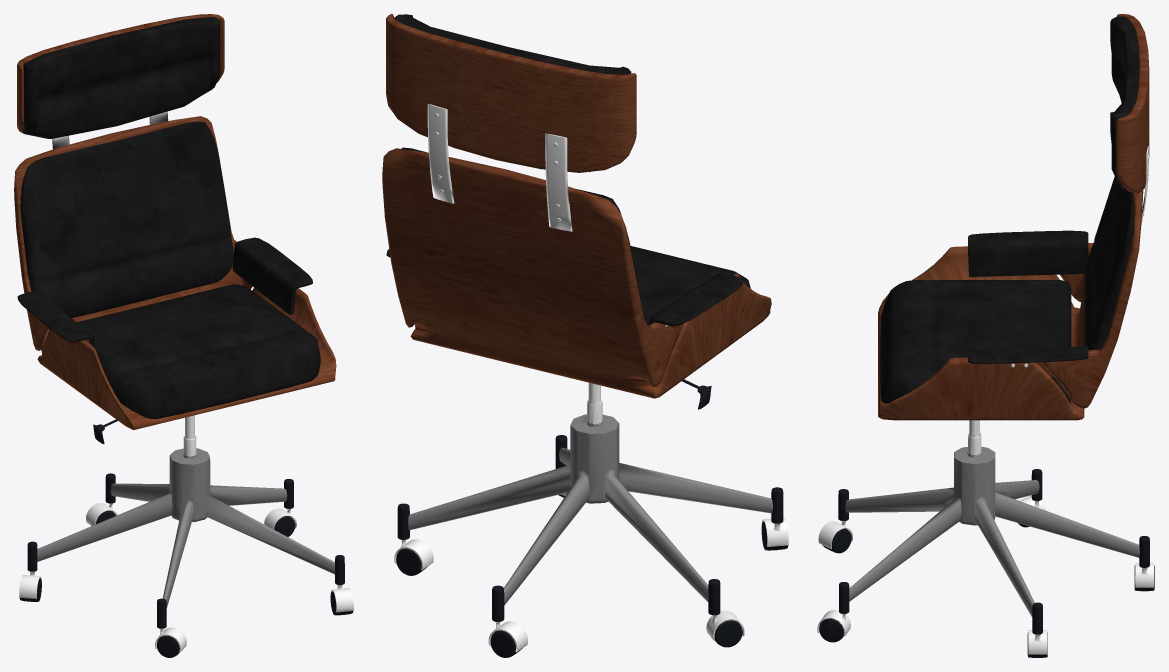
Rendered from office_chair.glb.
3 views of the same model, side by side, from view 1: azimuth 30°, elevation 25°; view 2: azimuth 150°, elevation 25°; view 3: azimuth 270°, elevation 25° (orthographic). The views are drawn at different scales.
Visible parts, largest first — view 1: Rodinhas_lambert9_0; view 2: Rodinhas_lambert9_0; view 3: Rodinhas_lambert9_0.
Part boxes in pixels (x1,y1,x2,y2): Rodinhas_lambert9_0: [14, 14, 353, 657]; Rodinhas_lambert9_0: [382, 14, 788, 657]; Rodinhas_lambert9_0: [817, 14, 1154, 657].
Size of the model in its own units: 0.852 by 1.44 by 0.8322.
1 material, 1 textured.
